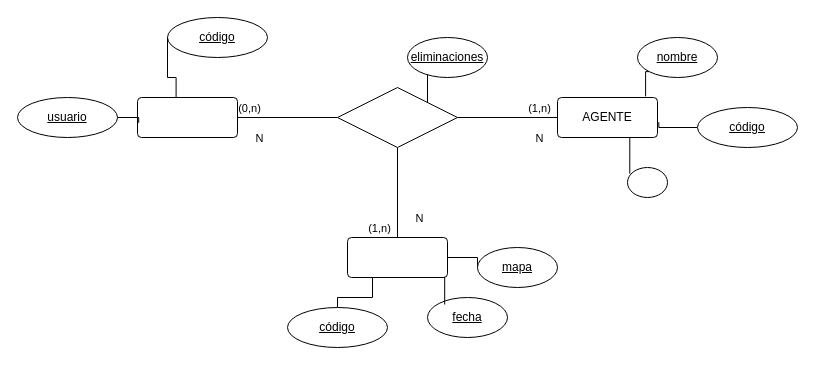
This 815x365 diagram has some shape labels left out. Each missing label, with the centre of its shape:
"aparece" goes at [397,117].
"JUGADOR" goes at [187,117].
"PARTIDA" goes at [397,257].
"rol" goes at [647,182].
